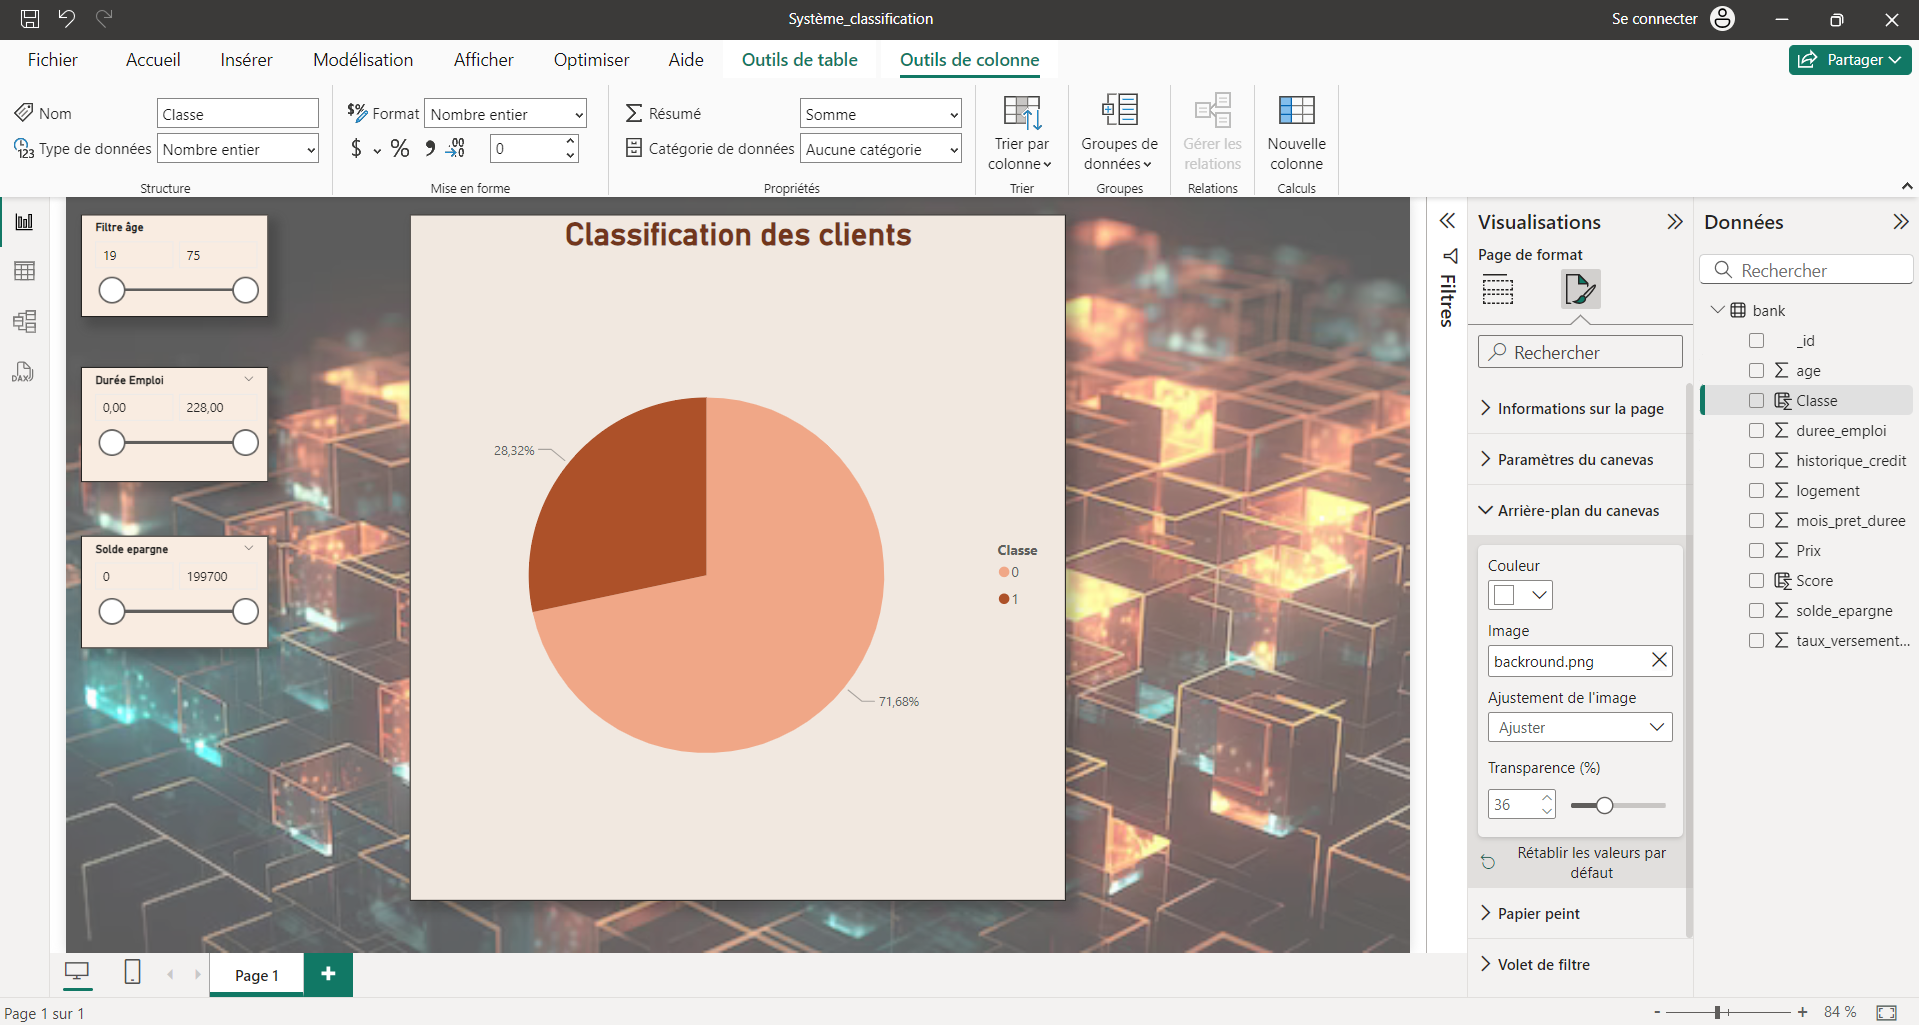

The dashboard page shown, as its layout file describes it:
{"tool":"powerbi","page":{"name":"Page 1","canvas":[1280,720],"ordinal":0},"visuals":[{"type":"pieChart","title":"Classification des clients","fields":{"Category":["bank.Classe"],"Y":["Sum(bank.Score)"]},"box":[327.4,16.7,625,653.6],"z":0},{"type":"slicer","fields":{"Values":["bank.age"]},"box":[13.7,16.5,178.4,97.4],"z":1000},{"type":"slicer","fields":{"Values":["bank.duree_emploi"]},"box":[13.7,161.9,178.4,109.8],"z":2000},{"type":"slicer","fields":{"Values":["bank.solde_epargne"]},"box":[13.7,322.5,178.4,107],"z":3000}]}

Visuals, with their boxes on the page's 1280x720 design canvas (x1, y1, x2, y2). These are canvas units, not pixel positions in the 1920x1025 screenshot, which may show the page scaled, cropped or inside an application window:
"Classification des clients" pieChart: Rect(327, 17, 952, 670)
slicer - bank.age: Rect(14, 16, 192, 114)
slicer - bank.duree_emploi: Rect(14, 162, 192, 272)
slicer - bank.solde_epargne: Rect(14, 322, 192, 430)
